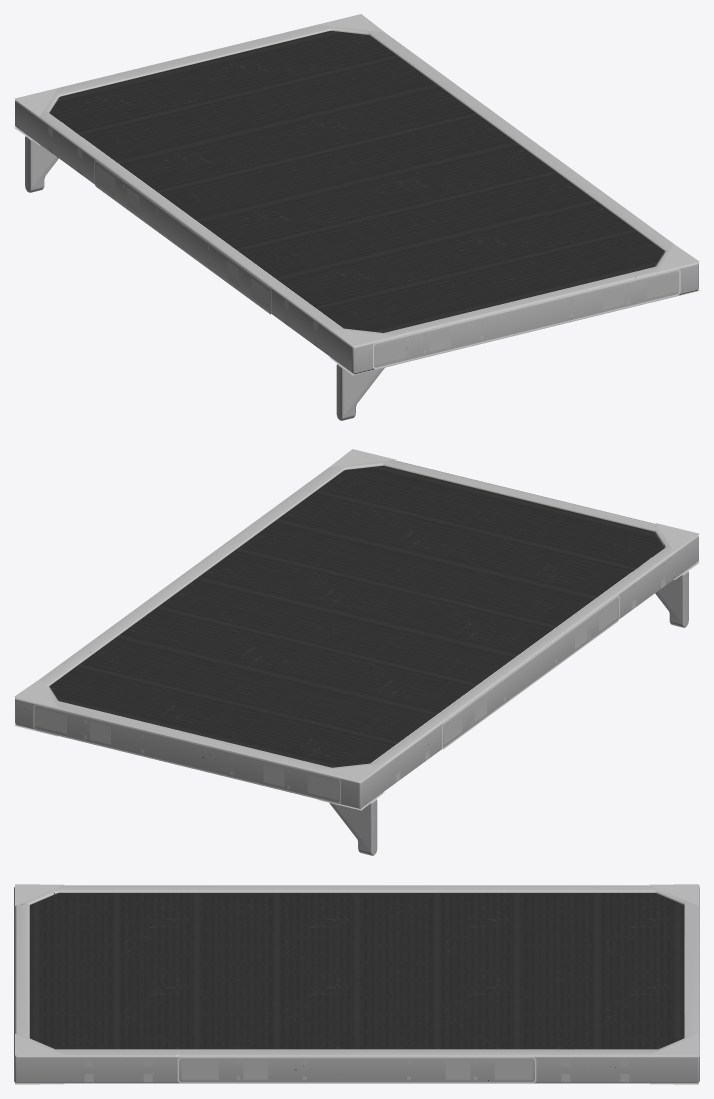
Rendered from SM_Panel_5_Merged.fbx.
3 views of the same model, one above another, from view 1: azimuth 30°, elevation 25°; view 2: azimuth 150°, elevation 25°; view 3: azimuth 270°, elevation 25° (orthographic).
Visible parts, largest first — view 1: SM_Panel_5_Merged_LOD0; view 2: SM_Panel_5_Merged_LOD0; view 3: SM_Panel_5_Merged_LOD0.
Boxes of the visible parts, left/top/right/bottom form: SM_Panel_5_Merged_LOD0: left=14, top=14, right=699, bottom=420; SM_Panel_5_Merged_LOD0: left=14, top=449, right=699, bottom=855; SM_Panel_5_Merged_LOD0: left=14, top=884, right=699, bottom=1084.
Bounding box in the file's own units: 260 × 440 × 60.14.
